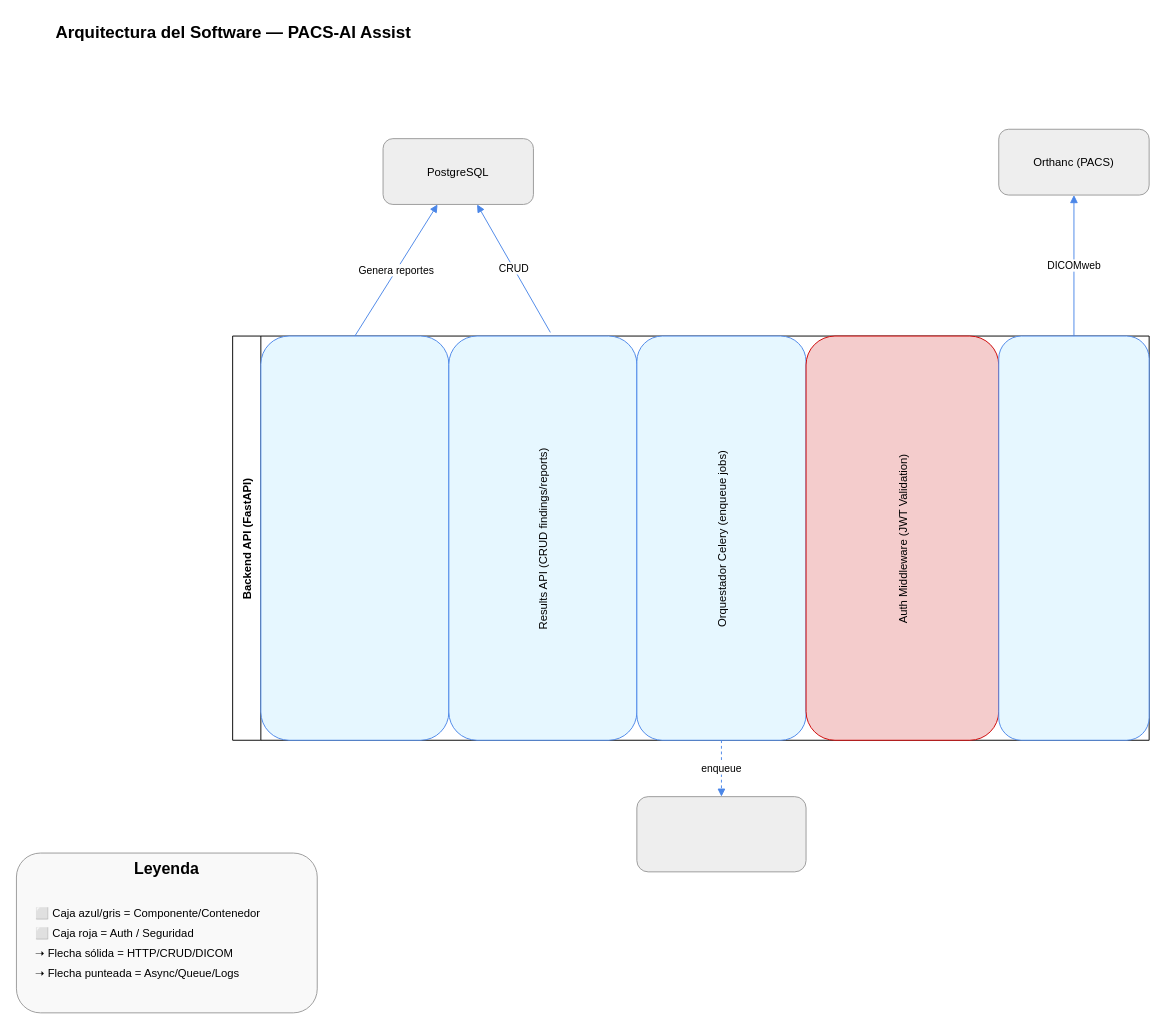
This 1166x1029 diagram has some shape labels left out. The centre of each missing label's shape, as x and y in pixels:
"DICOMweb Adapter (QIDO/WADO/STOW)" goes at point 1073,537.
"Reports Generator (PDF/HTML)" goes at point 354,537.
"Worker (Celery + TF)" goes at point 721,834.
